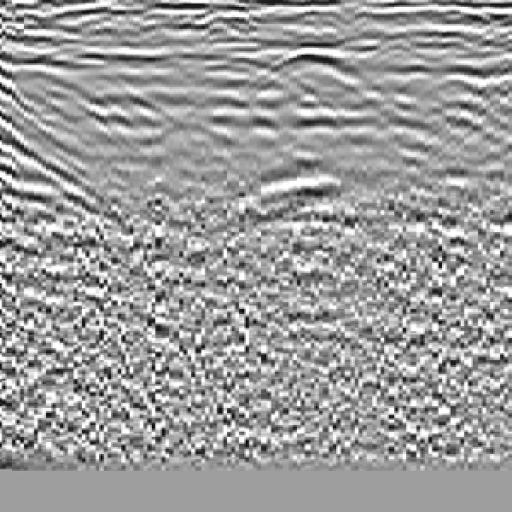metalic: (226, 29, 405, 231)
nonmetalic: (1, 25, 131, 239)
